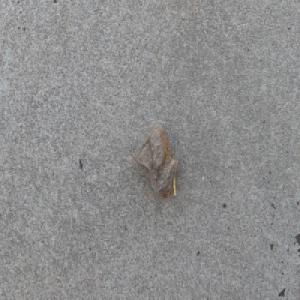Rock: (132, 121, 178, 200)
